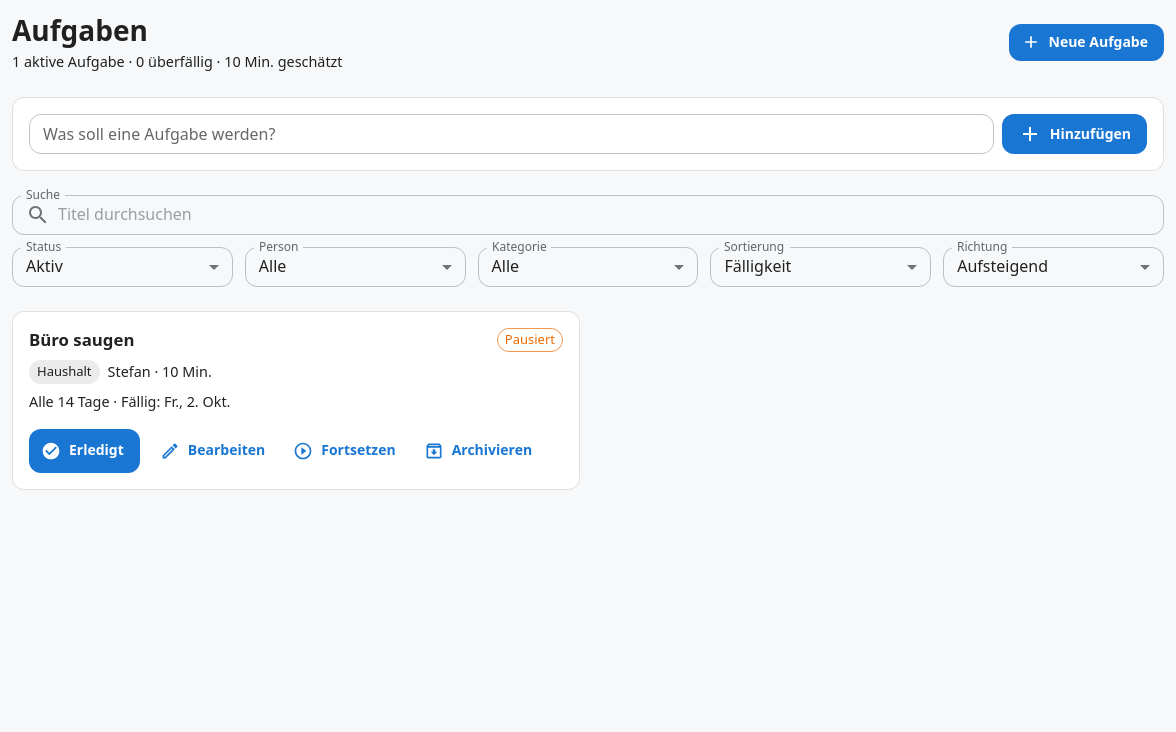
Scenario: pause and resume on the Tenners page › resumes an individually paused Tenner
Expected: the text "Pausiert" is shown, top-left (505, 330), bottom-right (555, 348)
Click the button with aria-label "„Büro saugen“ fortsetzen". click: (346, 451)
box: top-left (289, 432), bottom-right (404, 469)
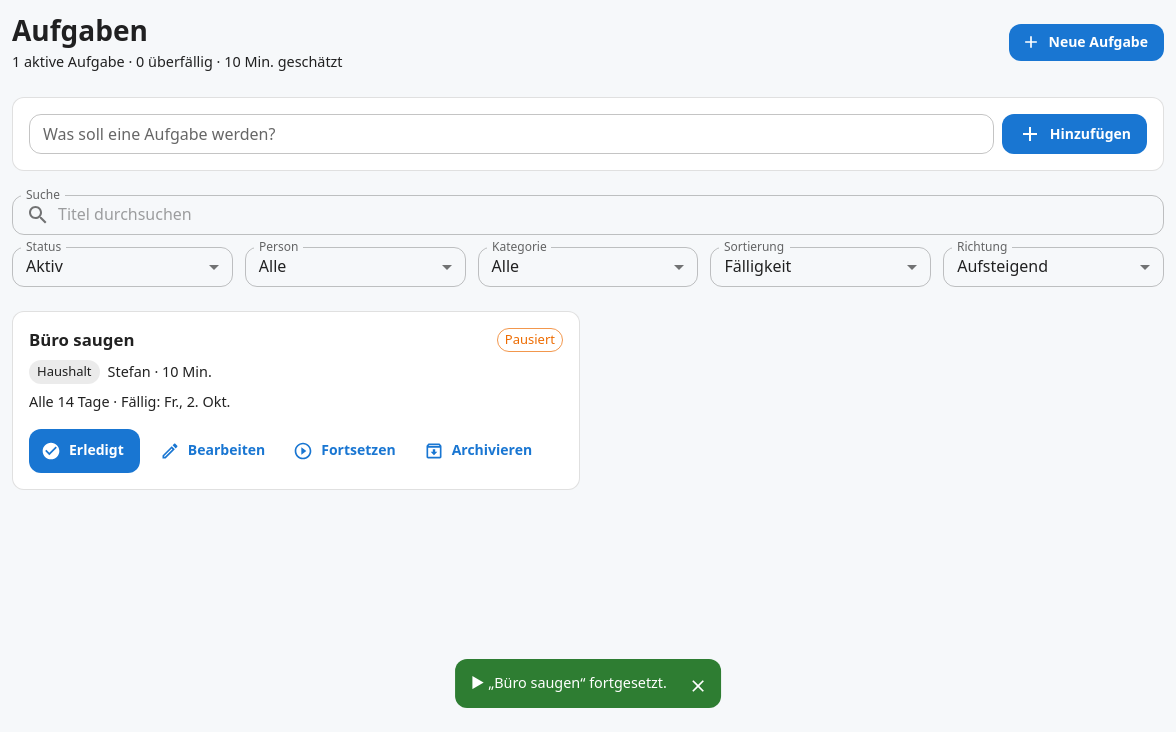
Expected: the text "▶ „Büro saugen“ fortgesetzt." is shown, top-left (471, 673), bottom-right (667, 692)
